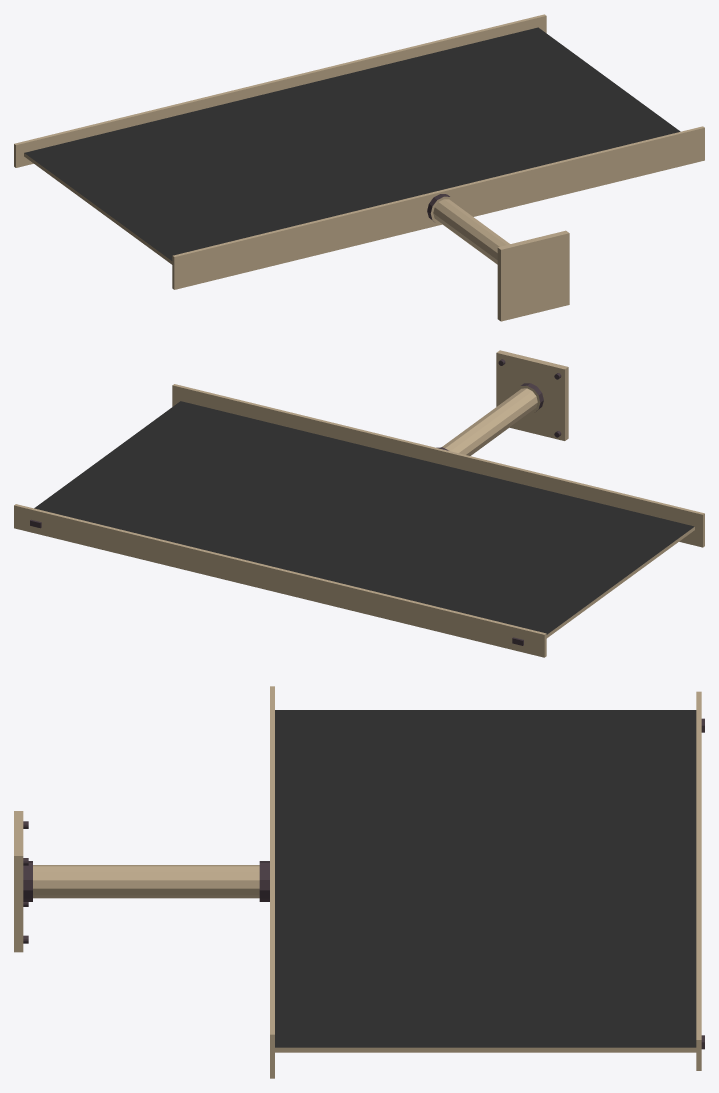
Rendered from GuangGao1_Mo.fbx.
3 renders of one model, top to bottom at view 1: azimuth 30°, elevation 25°; view 2: azimuth 150°, elevation 25°; view 3: azimuth 270°, elevation 25°, orthographic. The views are drawn at different scales.
Visible parts, largest first — view 1: Box040; view 2: Box040; view 3: Box040.
Part boxes in pixels (x1,y1,x2,y2): Box040: [14, 14, 704, 321]; Box040: [14, 350, 704, 657]; Box040: [14, 686, 704, 1078].
Bounding box in the file's own units: 1789 × 231 × 1499.
1 material, 1 textured.
